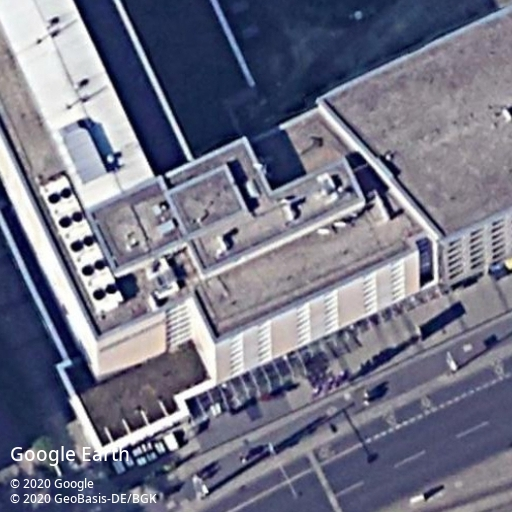Chiller: (40, 175, 125, 313)
